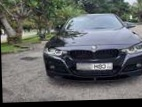car: (35, 10, 142, 87)
